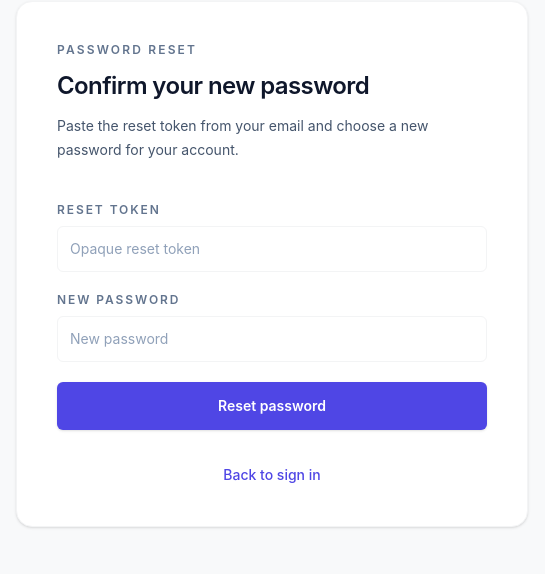
Scenario: PasswordResetConfirmPage › submits the reset token and new password to the auth API
The width and height of the screenshot is (545, 574).
Step 1. Type "reset-token-123" into the field with placeholder "Opaque reset token" → (272, 249), box top-left (57, 226), bottom-right (487, 272)
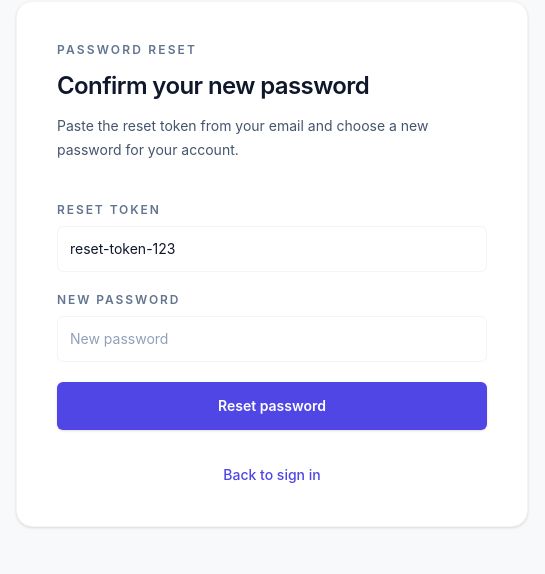
Step 2. Type "new-secret-123" into the password field with placeholder "New password" → (272, 339), box top-left (57, 316), bottom-right (487, 362)
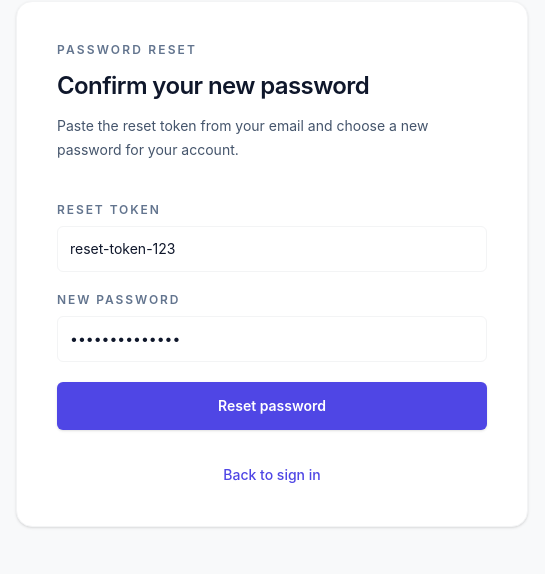
Step 3. Submit the form "Reset password", box top-left (57, 202), bottom-right (487, 430)
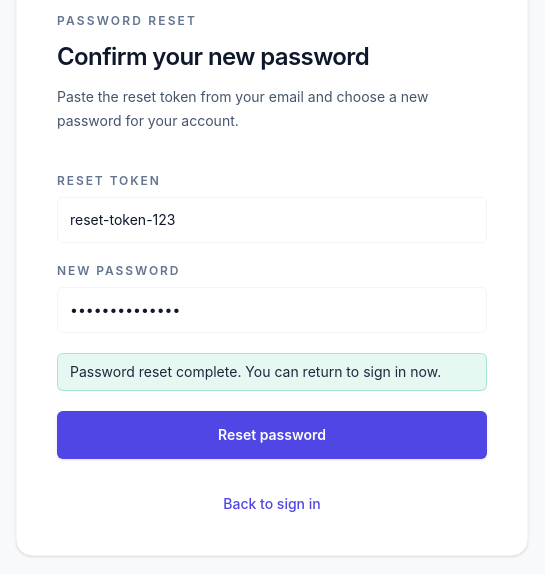
Expected: the text "Password reset complete. You can return to sign in now." is shown, top-left (57, 353), bottom-right (487, 391)
